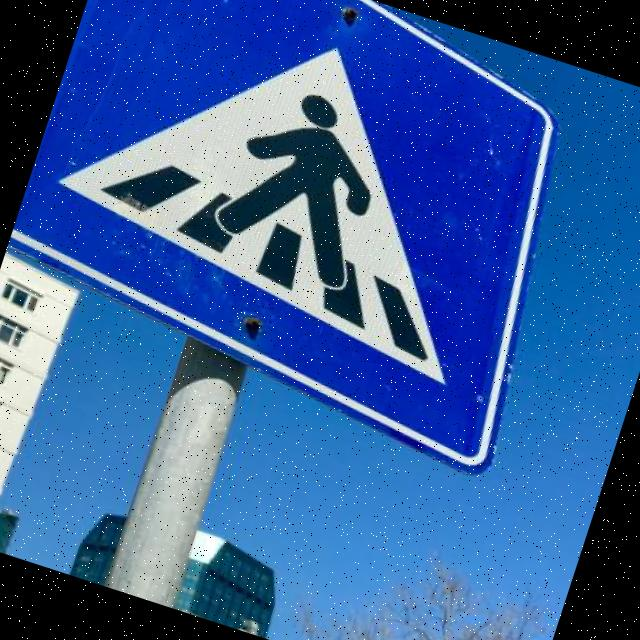crosswalk: (0, 0, 619, 491)
